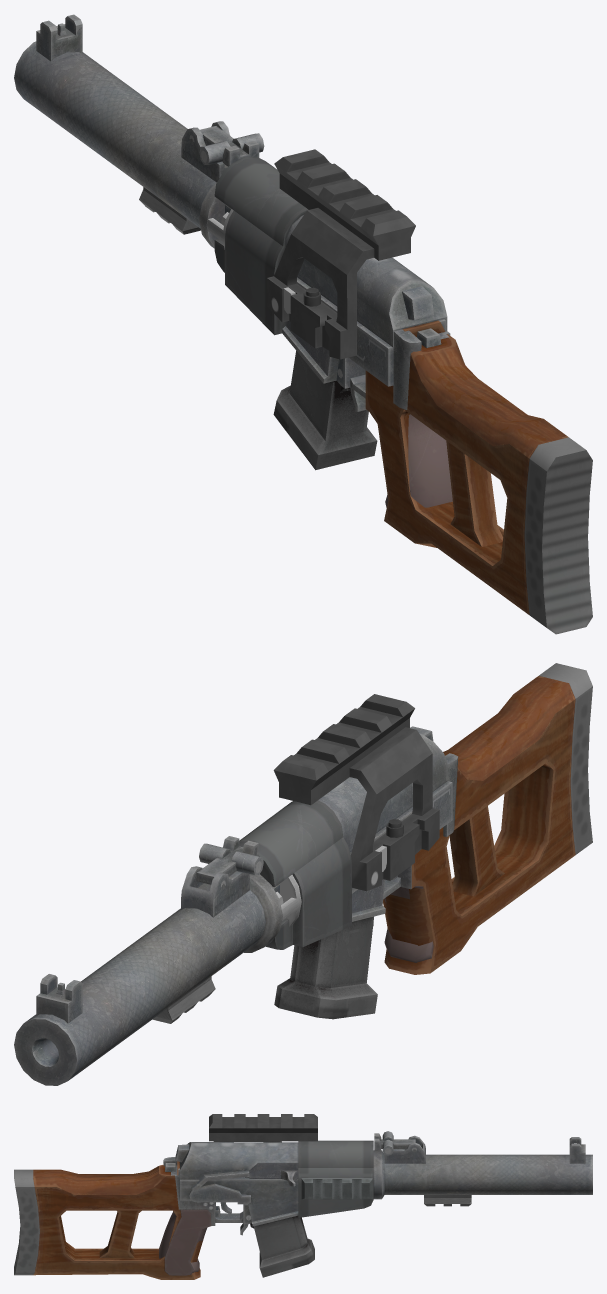
The model's file is IG_Gun_VSS.fbx.
The picture shows the model from 3 angles, top to bottom: view 1: azimuth 30°, elevation 25°; view 2: azimuth 150°, elevation 25°; view 3: azimuth 270°, elevation 25°; orthographic projection. The views are drawn at different scales.
Visible parts, largest first — view 1: WPN_VSS, HideIf_Stock, ShowIf_Scope, ShowIf_Stock, ShowIf_Grip; view 2: WPN_VSS, HideIf_Stock, ShowIf_Scope, ShowIf_Stock, ShowIf_Grip; view 3: WPN_VSS, HideIf_Stock, ShowIf_Stock, ShowIf_Scope, ShowIf_Tec, ShowIf_Grip.
Boxes of the visible parts, x1,y1,x2,y2 form: WPN_VSS: [14, 14, 450, 470]; HideIf_Stock: [365, 320, 592, 634]; ShowIf_Scope: [267, 149, 415, 359]; ShowIf_Stock: [385, 319, 452, 507]; ShowIf_Grip: [139, 187, 200, 234]; WPN_VSS: [14, 726, 452, 1085]; HideIf_Stock: [383, 663, 592, 974]; ShowIf_Scope: [273, 694, 439, 891]; ShowIf_Stock: [384, 753, 458, 962]; ShowIf_Grip: [152, 976, 215, 1023]; WPN_VSS: [175, 1131, 592, 1277]; HideIf_Stock: [14, 1161, 203, 1279]; ShowIf_Stock: [159, 1157, 215, 1275]; ShowIf_Scope: [209, 1114, 317, 1142]; ShowIf_Tec: [301, 1178, 372, 1199]; ShowIf_Grip: [424, 1194, 471, 1206].
Bounding box in the file's own units: 0.1352 × 0.3356 × 1.13.
